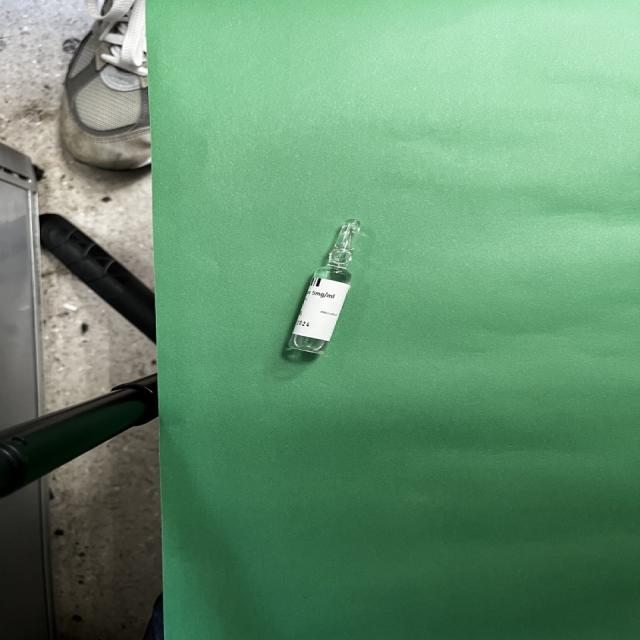Ampoules: (287, 219, 360, 354)
